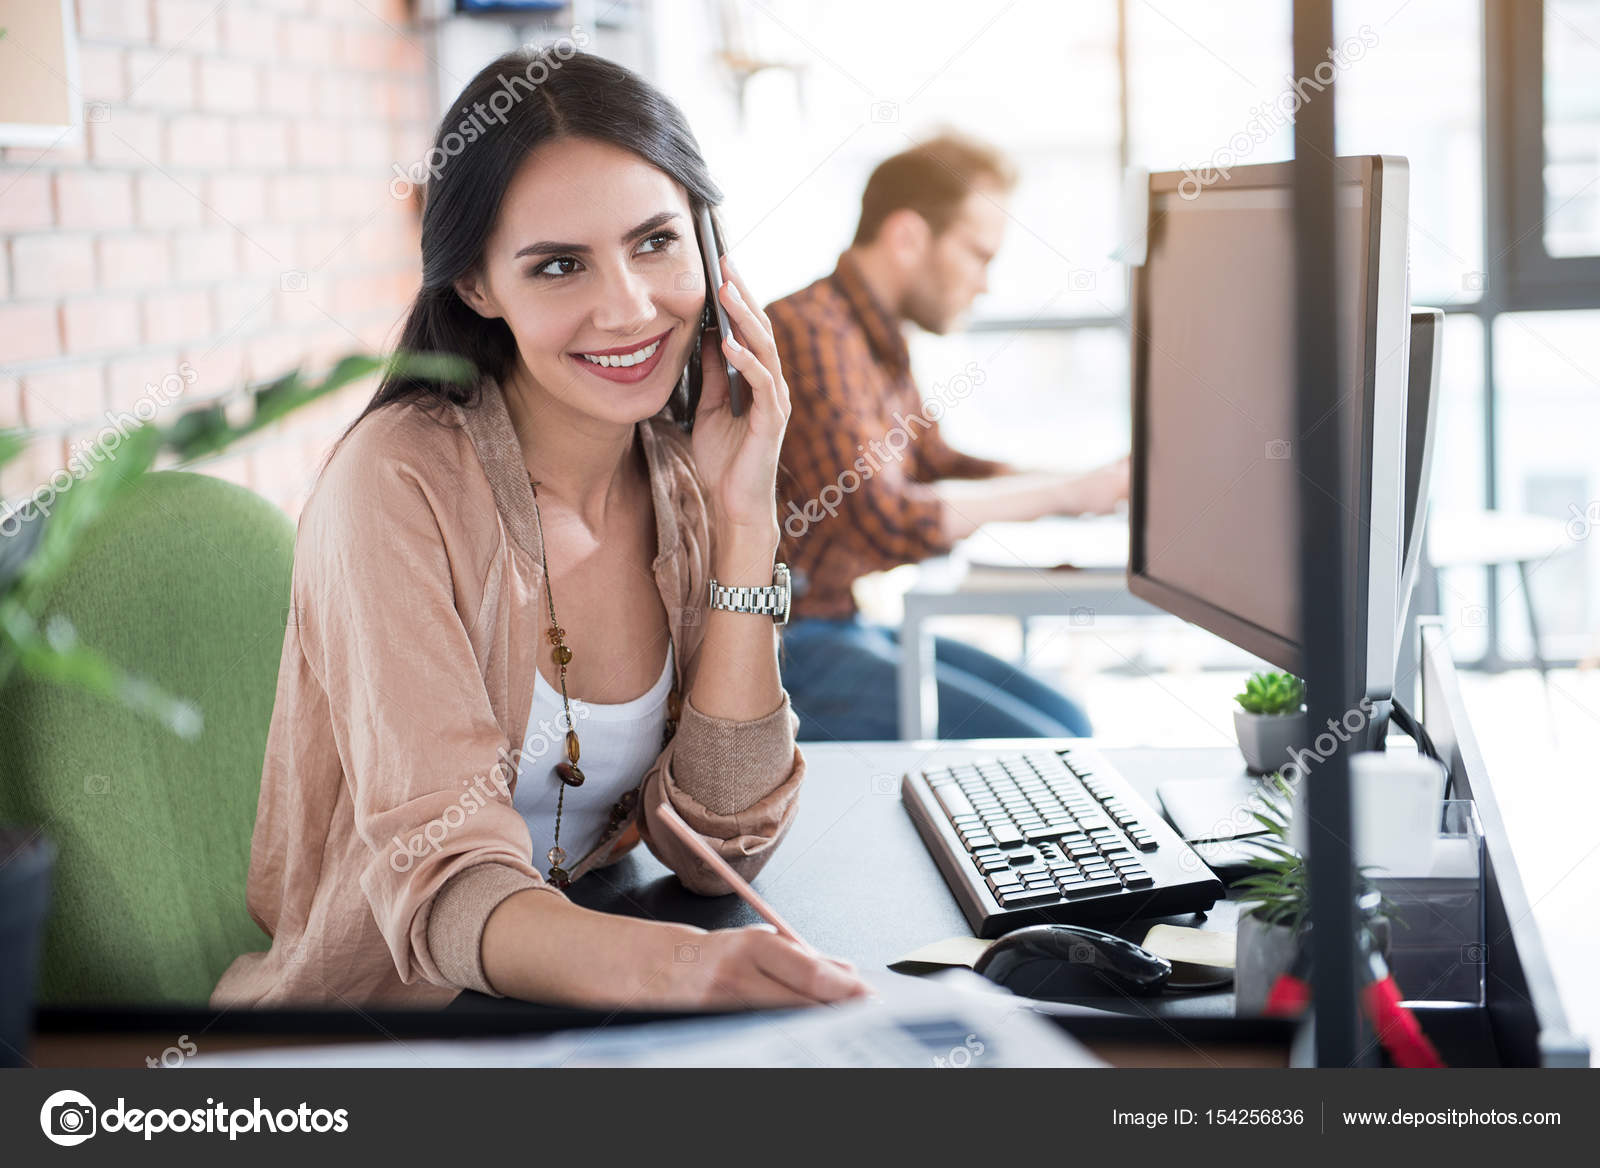phone: (680, 189, 795, 422)
talk: (507, 176, 820, 526)
